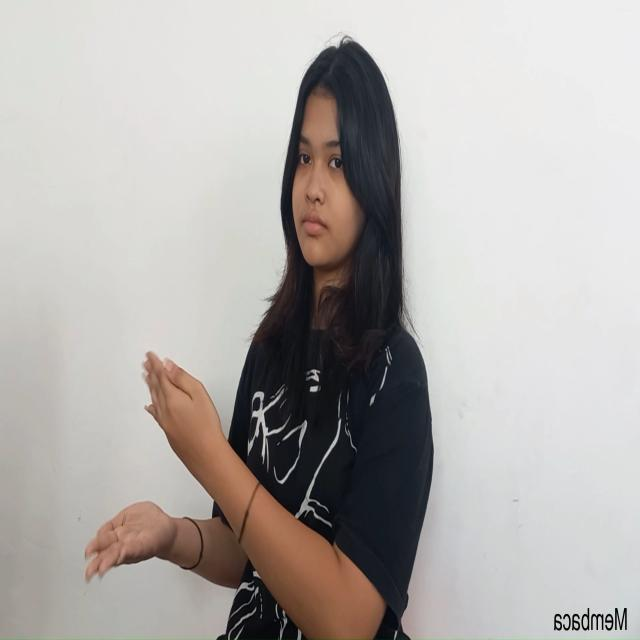Membaca -BISINDO-: (84, 350, 225, 580)
